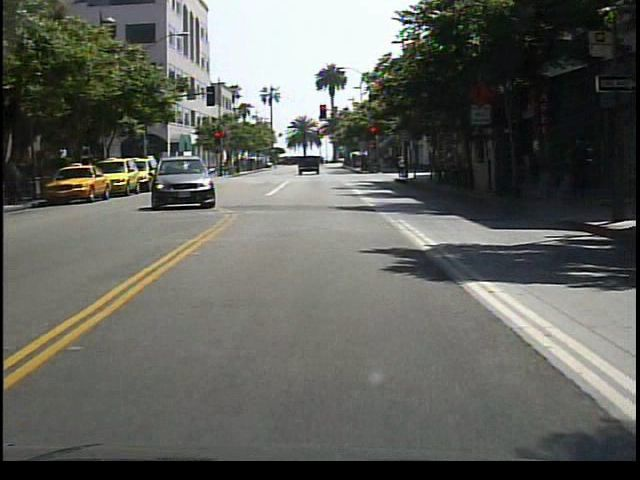person: (395, 151, 410, 179)
